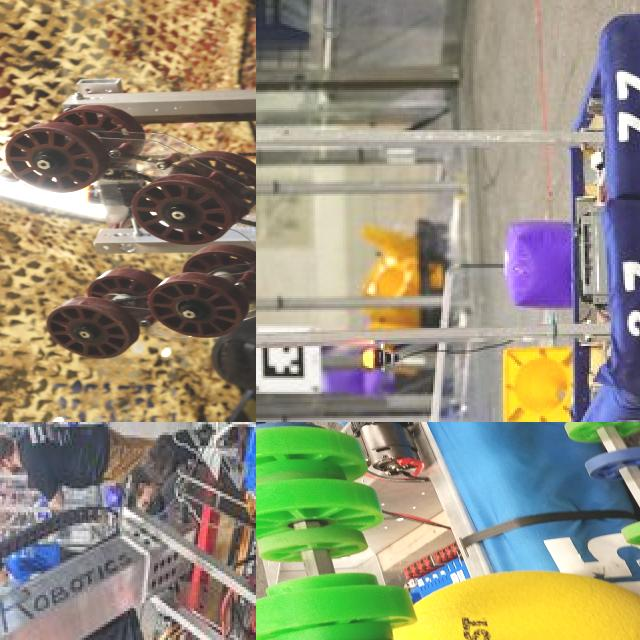FRC-Robots: (256, 0, 640, 422), (256, 422, 640, 640), (0, 71, 256, 378), (0, 422, 256, 640)
